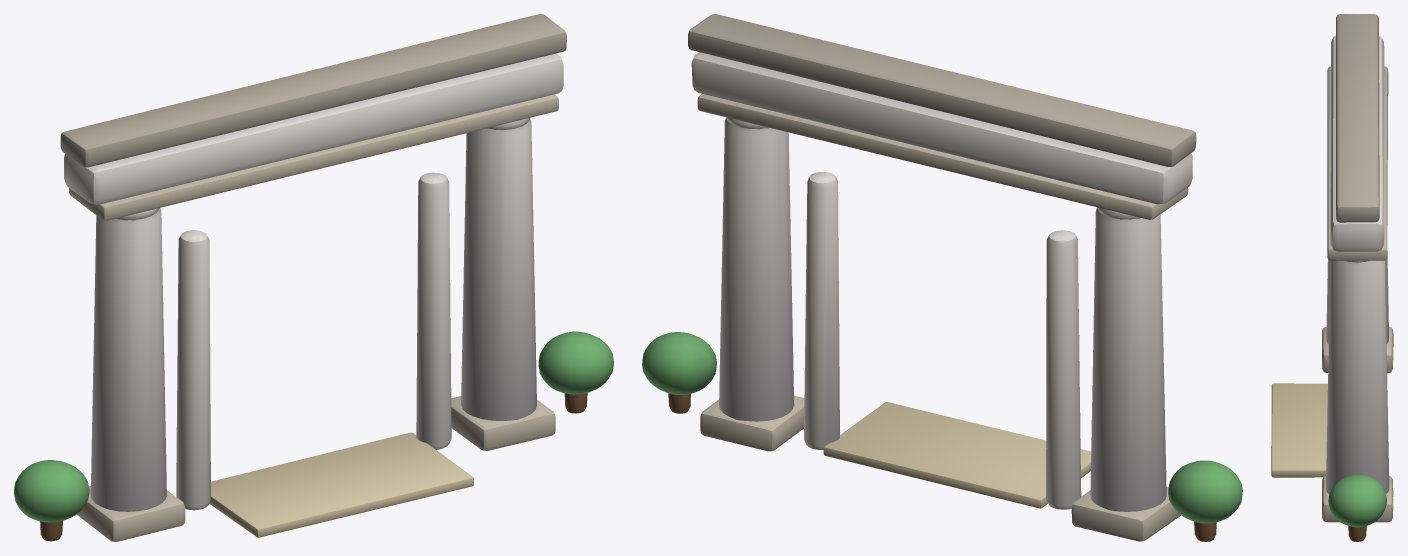
3 renders of one model, left to right at view 1: azimuth 30°, elevation 25°; view 2: azimuth 150°, elevation 25°; view 3: azimuth 270°, elevation 25°, orthographic. The views are drawn at different scales.
Visible parts, largest first — view 1: gate_323423ad; view 2: gate_323423ad; view 3: gate_323423ad.
Boxes of the visible parts, <box> form: gate_323423ad: <box>14,14,613,541</box>; gate_323423ad: <box>642,14,1242,541</box>; gate_323423ad: <box>1271,14,1393,541</box>.
Bounding box in the file's own units: 6.52 × 4.17 × 1.42.
